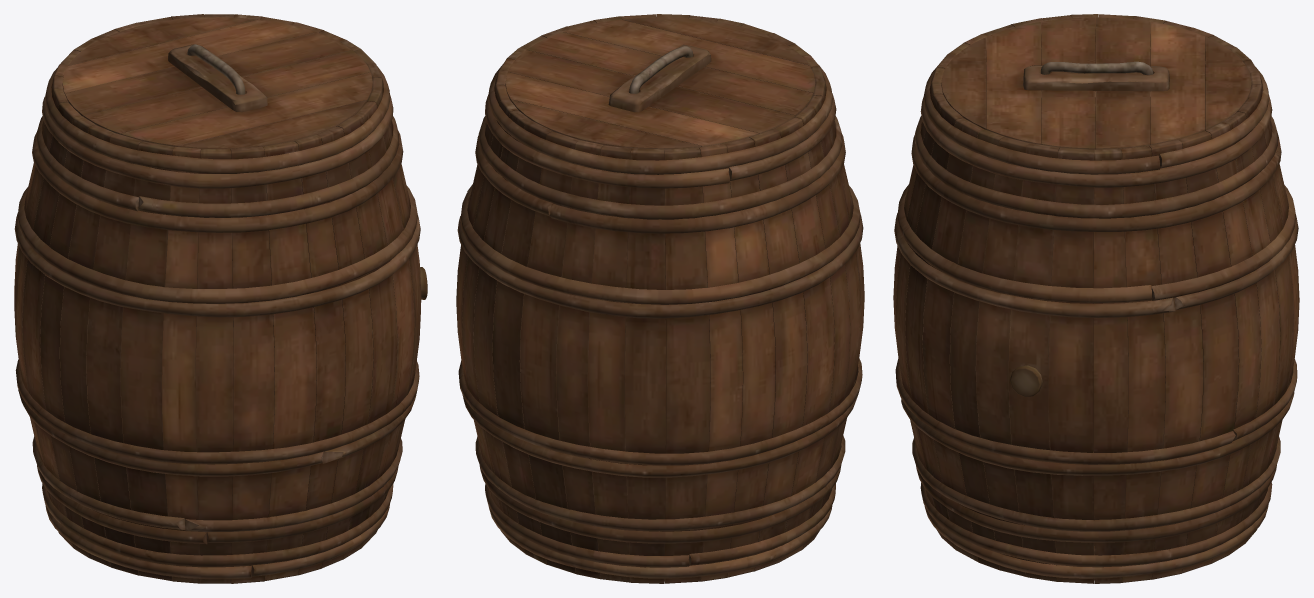
File: barrel.glb
3 views of the same model, side by side, from view 1: azimuth 30°, elevation 25°; view 2: azimuth 150°, elevation 25°; view 3: azimuth 270°, elevation 25° (orthographic).
Parts seen in each view (by area): view 1: wooden_barrels_01_barrel01; view 2: wooden_barrels_01_barrel01; view 3: wooden_barrels_01_barrel01.
Part boxes in pixels (bbox=[...]): wooden_barrels_01_barrel01: bbox=[14, 14, 427, 583]; wooden_barrels_01_barrel01: bbox=[456, 14, 864, 583]; wooden_barrels_01_barrel01: bbox=[893, 14, 1299, 583].
Bounding box in the file's own units: 0.743 × 0.9168 × 0.743.
Materials: 1 (1 with a texture image).
